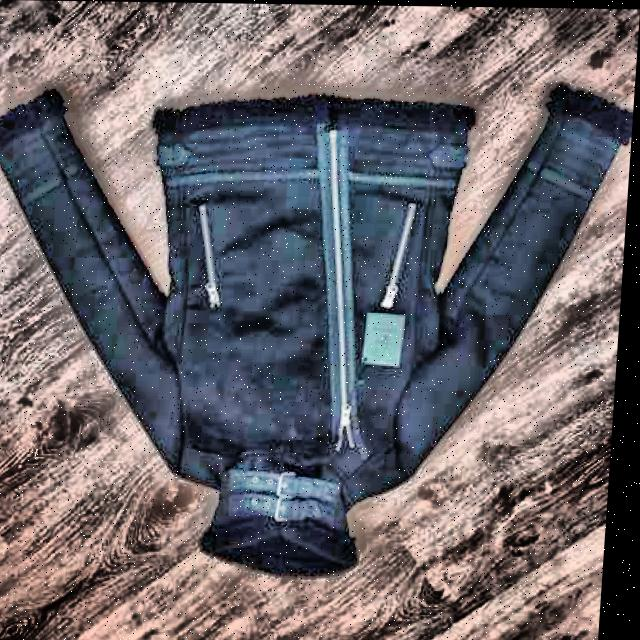clothes: (0, 73, 635, 586)
